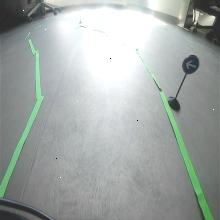left: (182, 53, 200, 75)
